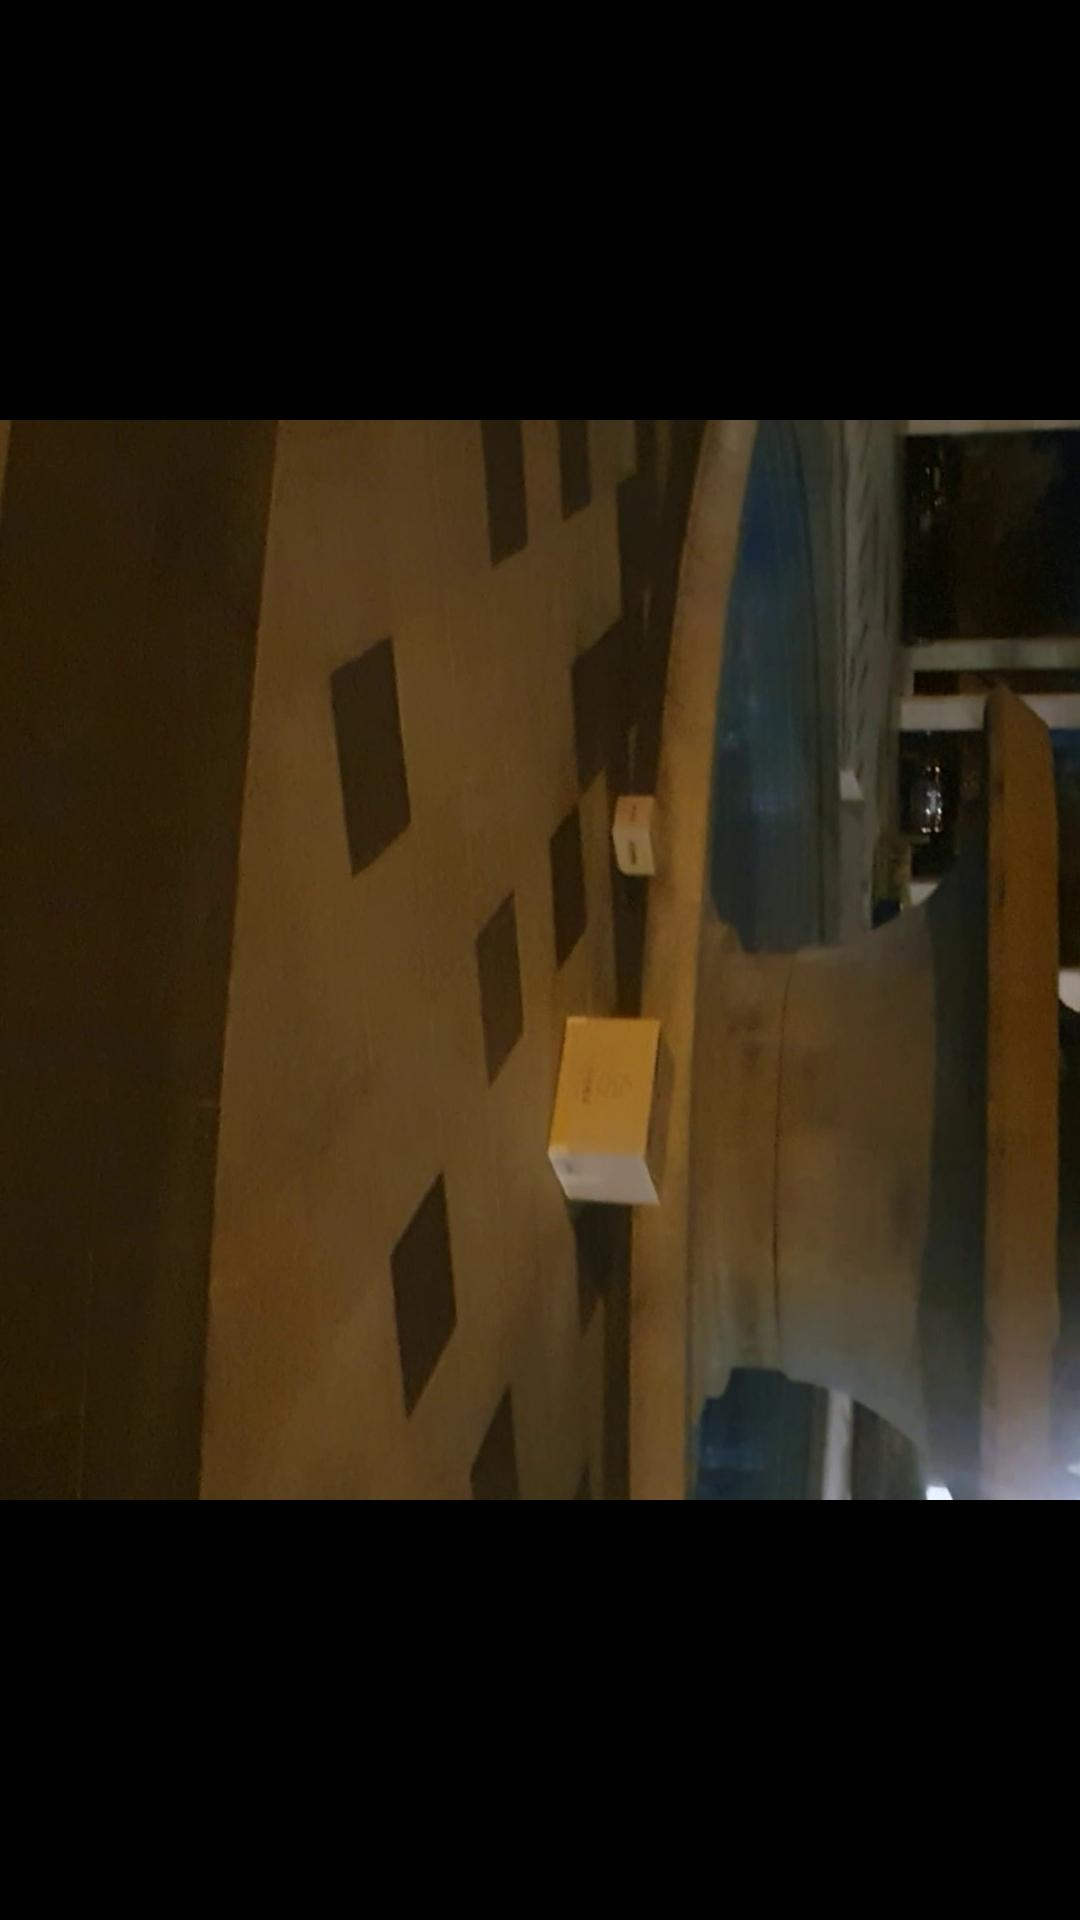Box: (530, 1021, 692, 1232), (600, 778, 676, 897)
